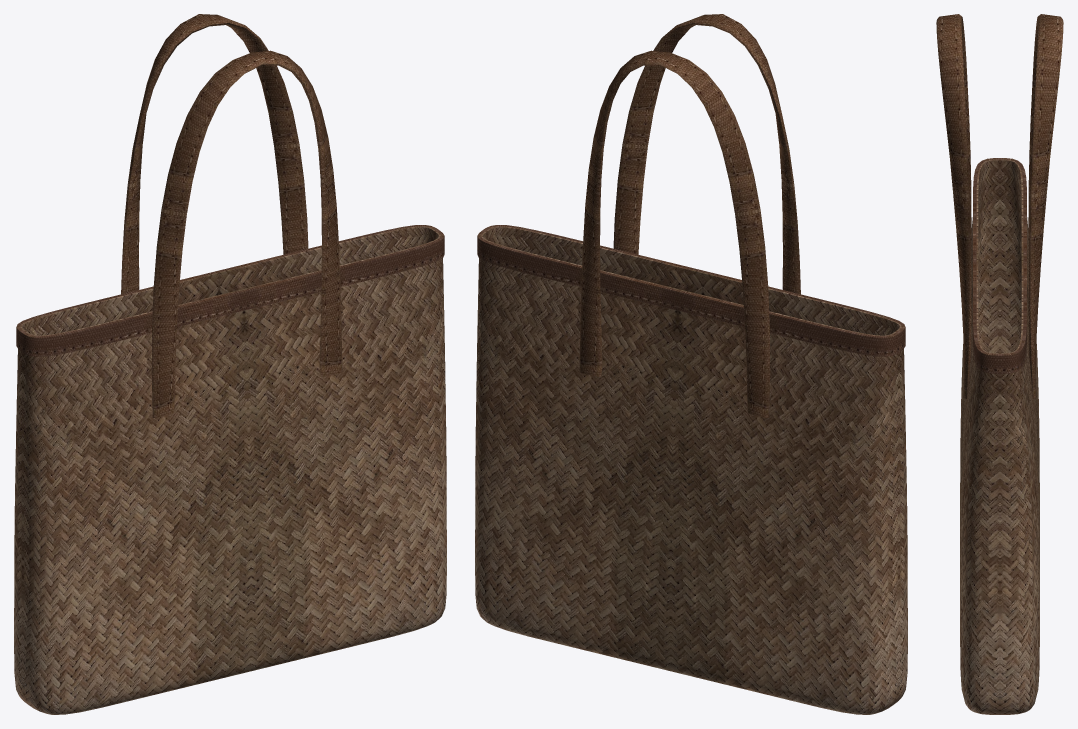
The model's file is Rattan Tote Bag (EMP (SBH) 27E).fbx.
3 views of the same model, side by side, from view 1: azimuth 30°, elevation 25°; view 2: azimuth 150°, elevation 25°; view 3: azimuth 270°, elevation 25° (orthographic). The views are drawn at different scales.
Visible parts, largest first — view 1: Rattan Tote Bag (EMP (SBH) 27E); view 2: Rattan Tote Bag (EMP (SBH) 27E); view 3: Rattan Tote Bag (EMP (SBH) 27E).
Boxes of the visible parts, x1,y1,x2,y2 form: Rattan Tote Bag (EMP (SBH) 27E): [14, 14, 446, 714]; Rattan Tote Bag (EMP (SBH) 27E): [475, 14, 907, 714]; Rattan Tote Bag (EMP (SBH) 27E): [936, 14, 1063, 714].
Bounding box in the file's own units: 34.91 × 49.98 × 9.5.
Materials: 1 (1 with a texture image).
